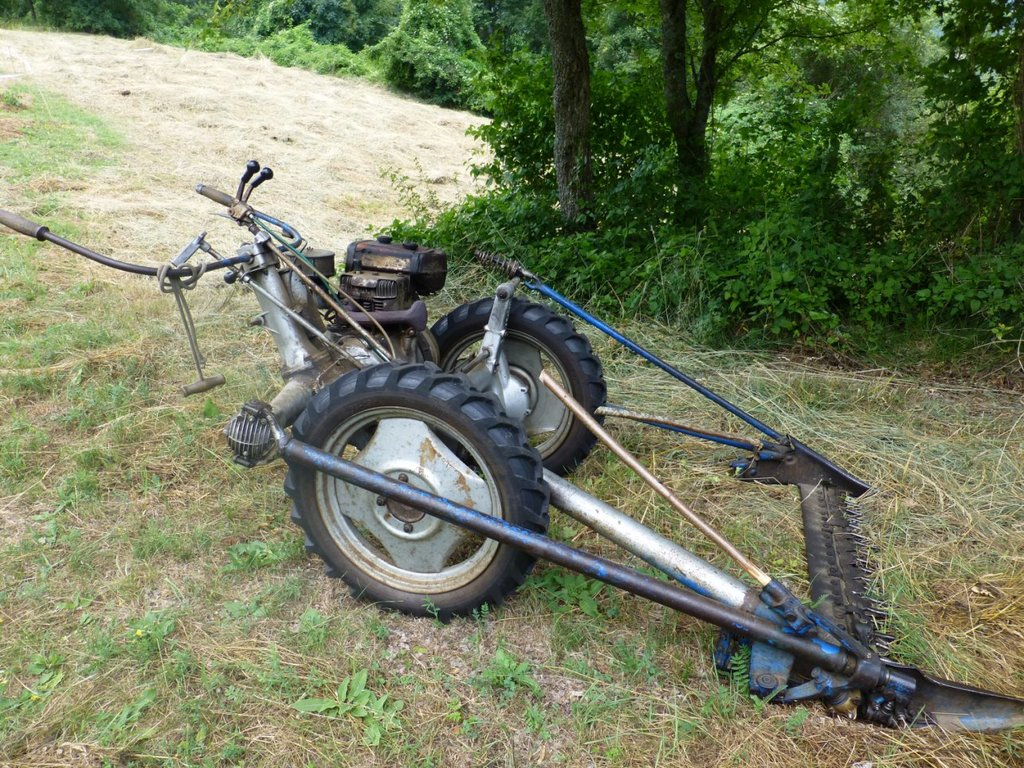Tree: (0, 0, 1024, 354)
